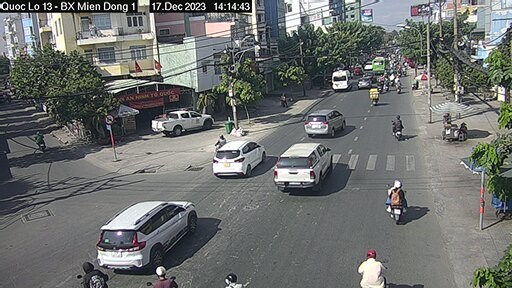bus: (372, 55, 386, 76)
car: (94, 201, 196, 268), (273, 144, 332, 193), (212, 139, 265, 178), (153, 111, 218, 138), (302, 109, 344, 135), (328, 68, 352, 91)
motorbike: (382, 175, 409, 222), (389, 117, 403, 142)
